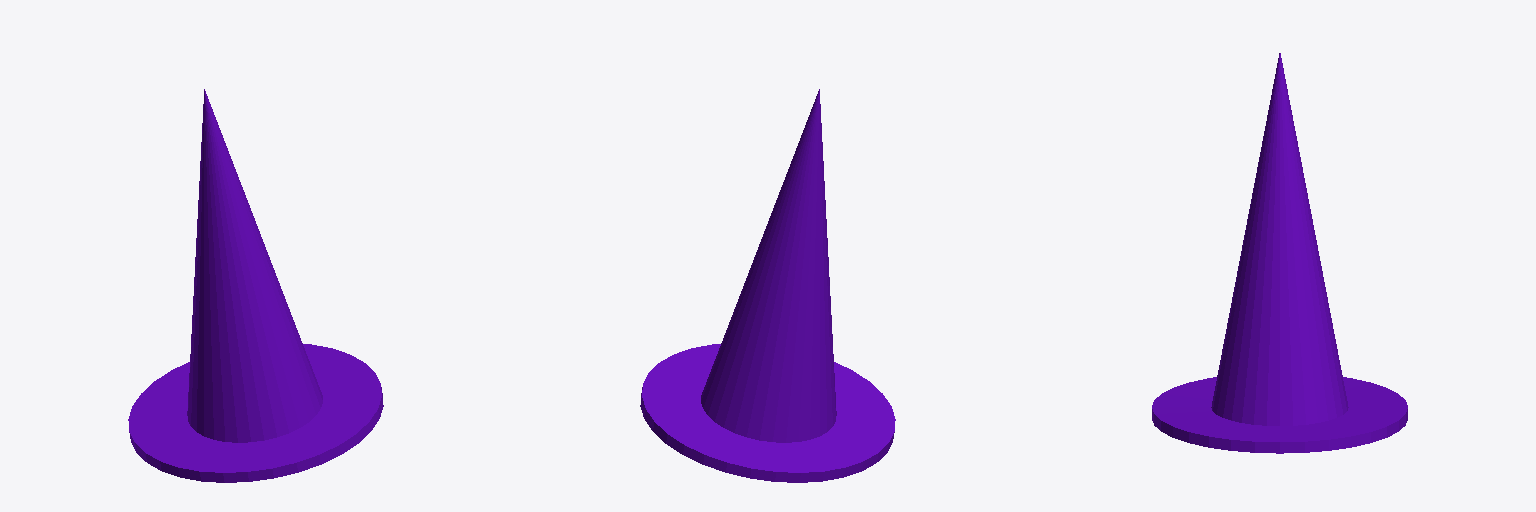
Rendered from gorrito.obj.
The picture shows the model from 3 angles: view 1: azimuth 30°, elevation 25°; view 2: azimuth 150°, elevation 25°; view 3: azimuth 270°, elevation 25°; orthographic projection.
Visible parts, largest first — view 1: Cone; view 2: Cone; view 3: Cone.
Part boxes in pixels (left/top/right/bottom): Cone: left=128, top=89, right=383, bottom=482; Cone: left=640, top=89, right=895, bottom=482; Cone: left=1152, top=53, right=1407, bottom=453.
Bounding box in the file's own units: 1.12 × 1.75 × 1.13.